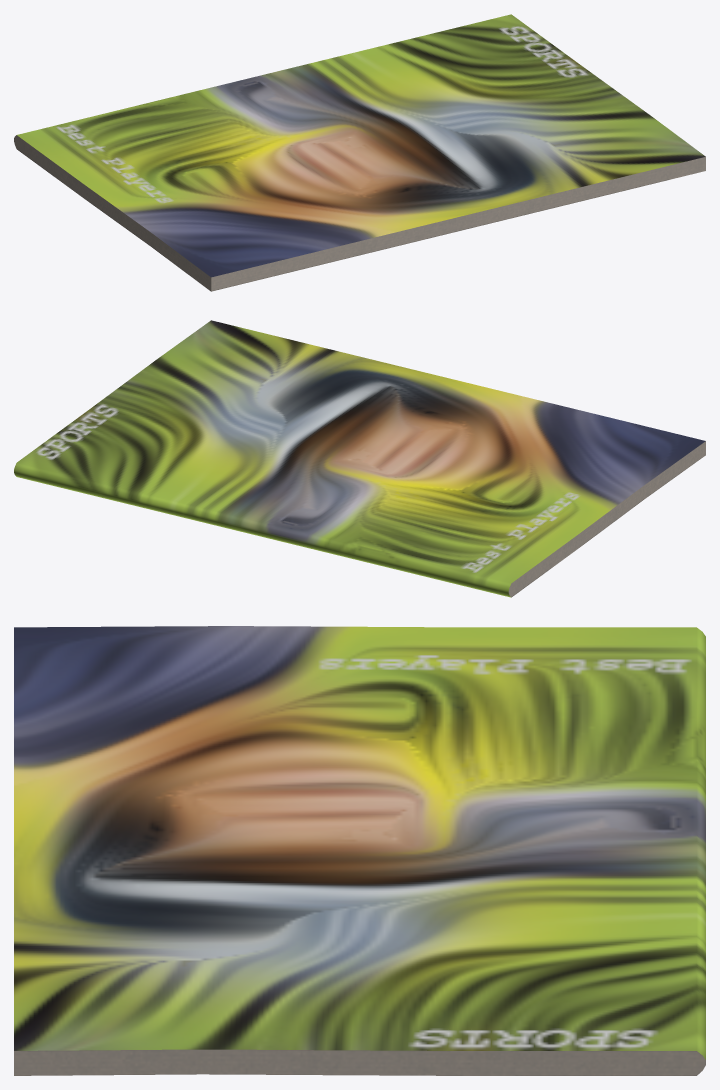
File: SM_Magazine_02.fbx
The picture shows the model from 3 angles, top to bottom: view 1: azimuth 30°, elevation 25°; view 2: azimuth 150°, elevation 25°; view 3: azimuth 270°, elevation 25°; orthographic projection. The views are drawn at different scales.
Parts seen in each view (by area): view 1: SM_Magazine_02_LOD0; view 2: SM_Magazine_02_LOD0; view 3: SM_Magazine_02_LOD0.
Boxes of the visible parts, x1=… form: SM_Magazine_02_LOD0: x1=14, y1=14, x2=705, y2=291; SM_Magazine_02_LOD0: x1=14, y1=320, x2=705, y2=597; SM_Magazine_02_LOD0: x1=14, y1=626, x2=705, y2=1075.
Bounding box in the file's own units: 37.75 × 26.06 × 1.1.
